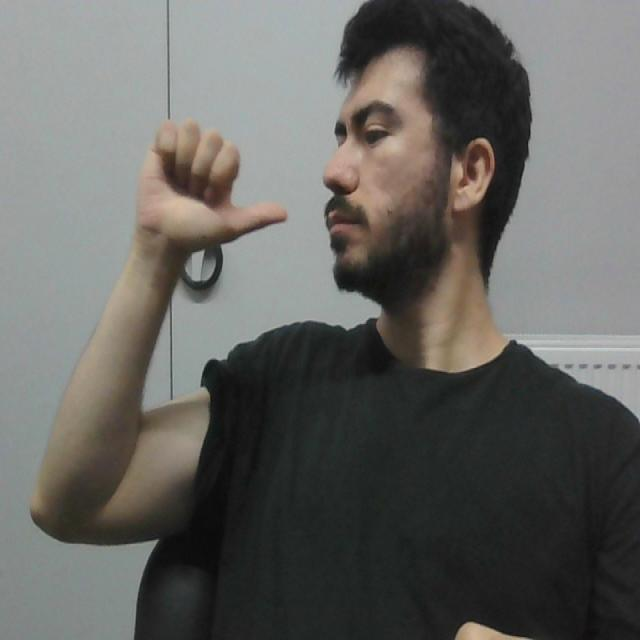icmek: (126, 116, 352, 256)
